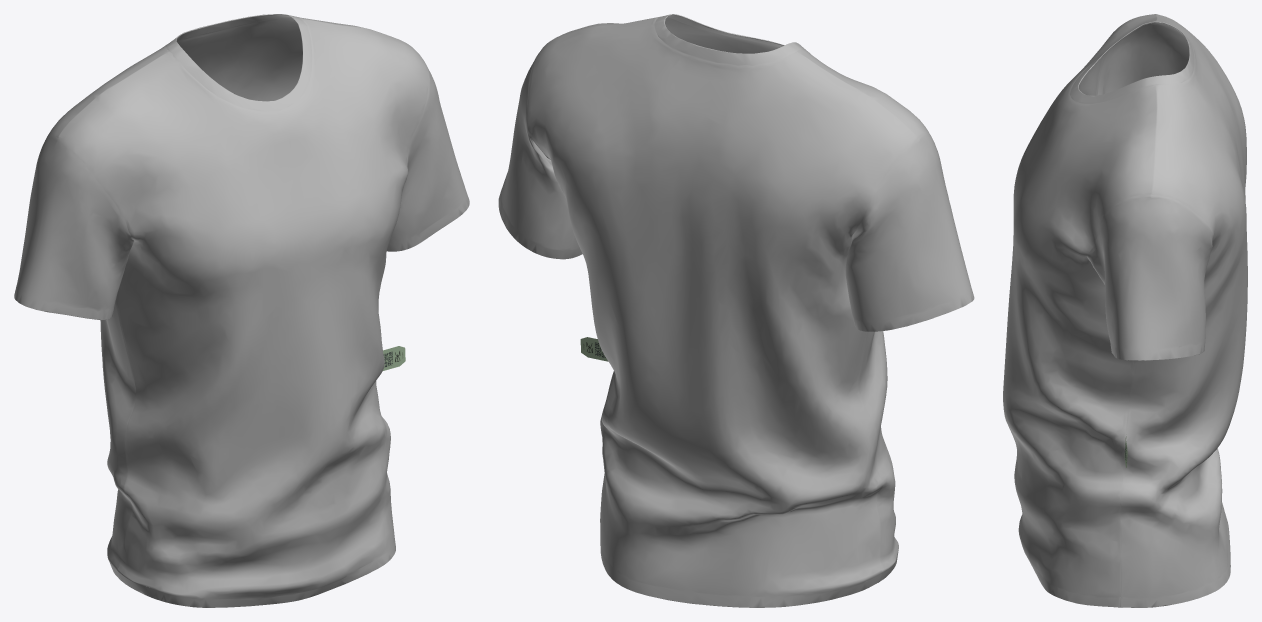
The model's file is Tag.glb.
The picture shows the model from 3 angles, left to right: view 1: azimuth 30°, elevation 25°; view 2: azimuth 150°, elevation 25°; view 3: azimuth 270°, elevation 25°; orthographic projection. The views are drawn at different scales.
Parts seen in each view (by area): view 1: T_Shirt_male; view 2: T_Shirt_male; view 3: T_Shirt_male.
Boxes of the visible parts, left/top/right/bottom form: T_Shirt_male: left=14, top=14, right=469, bottom=607; T_Shirt_male: left=498, top=14, right=974, bottom=607; T_Shirt_male: left=1003, top=14, right=1247, bottom=607.
Bounding box in the file's own units: 0.5502 × 0.613 × 0.269.
2 materials, 1 textured.
